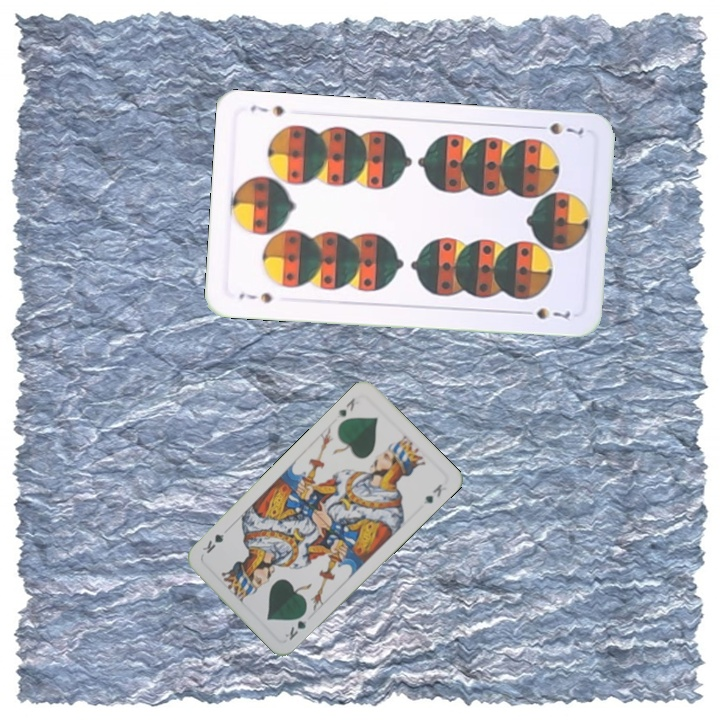GK: (281, 607, 309, 643), (334, 393, 358, 420)
S7: (530, 118, 586, 138), (235, 288, 275, 306)
